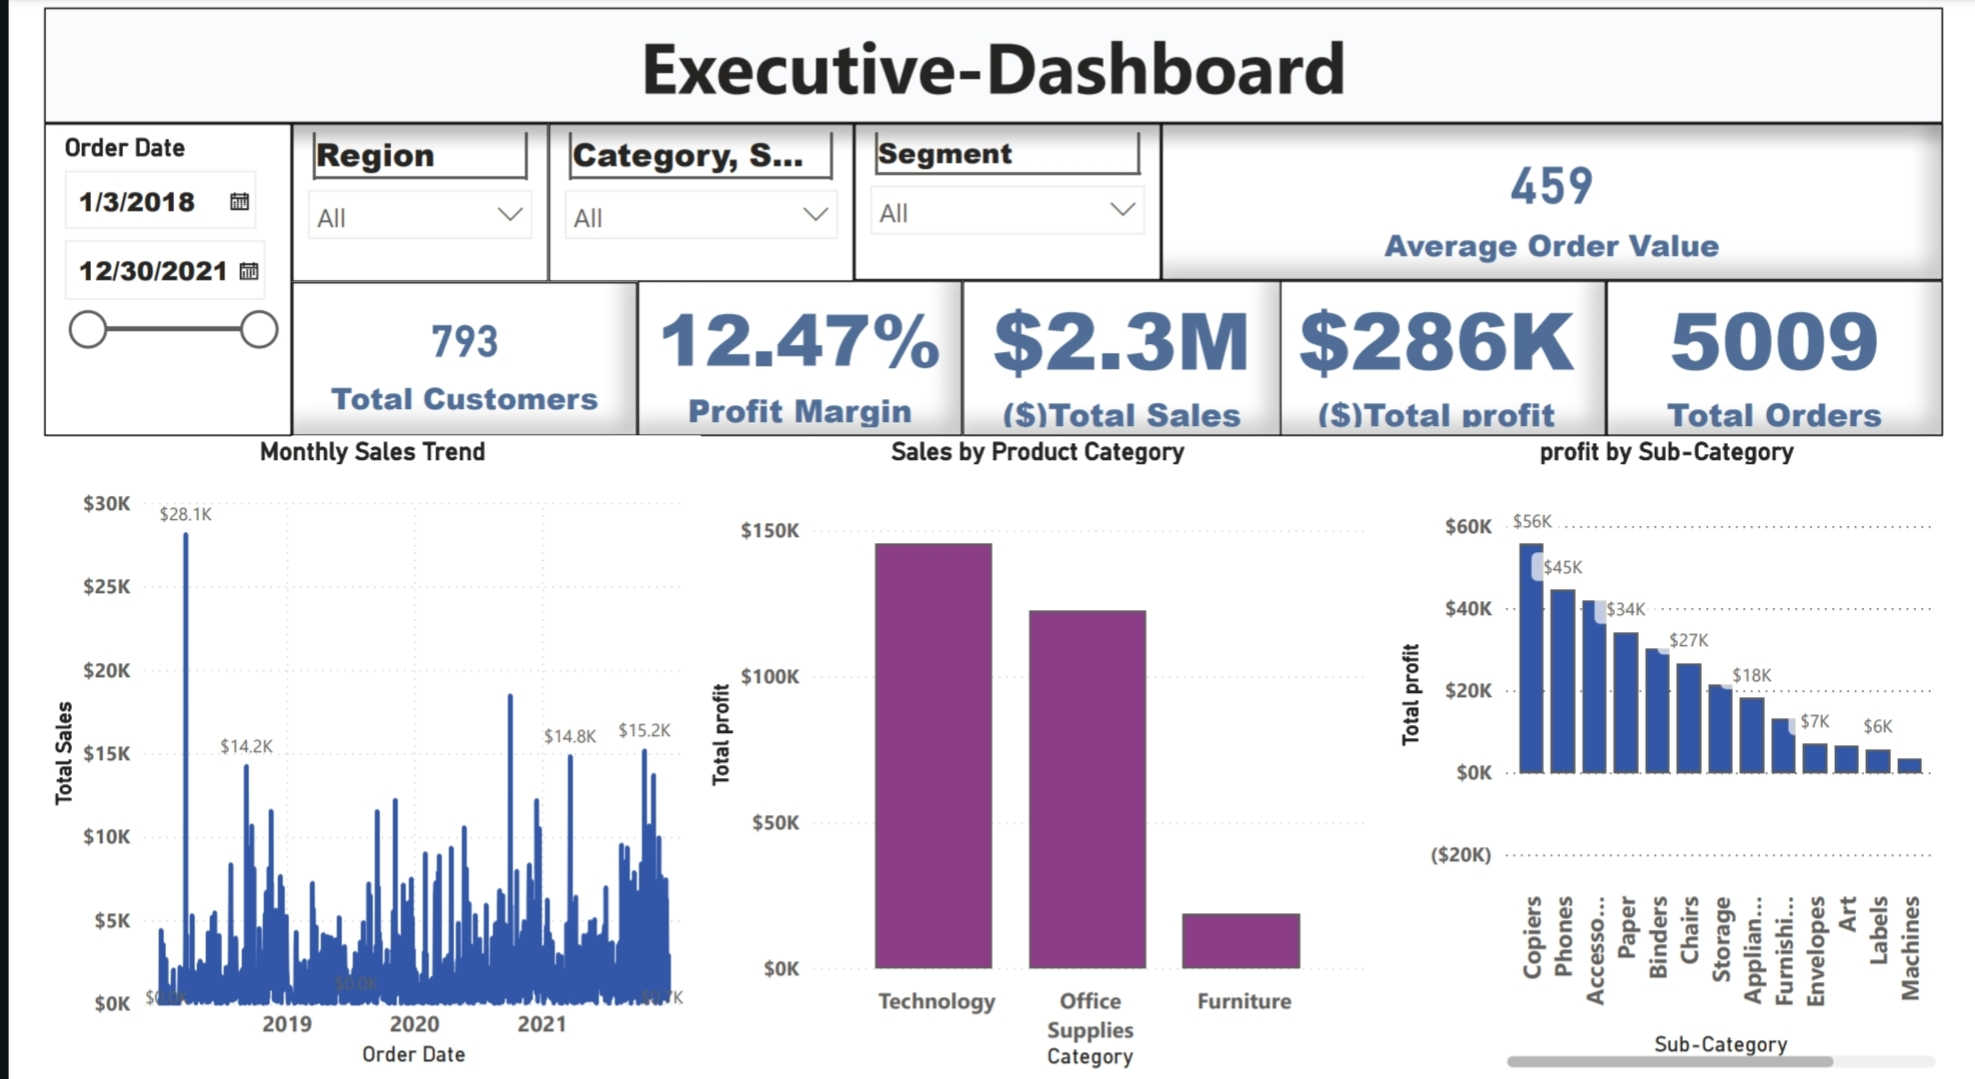

Layout of this report page (visuals, bound fields, positions):
{"tool":"powerbi","page":{"name":"Executive Dashboard","canvas":[1280,720],"ordinal":1},"visuals":[{"type":"slicer","fields":{"Values":["Orders.Region"]},"box":[166.8,78.2,172.7,106.3],"z":0},{"type":"slicer","fields":{"Values":["Orders.Segment"]},"box":[545.8,77.8,207.4,106.6],"z":1000},{"type":"slicer","fields":{"Values":["Orders.Category","Orders.Sub-Category"]},"box":[339.6,78.2,206.7,106.3],"z":3000},{"type":"card","fields":{"Values":["Calendar.Average Order Value"]},"box":[753.1,77.8,527.1,106.3],"z":4000},{"type":"card","fields":{"Values":["Calendar.Total Orders"]},"box":[1052.6,184.3,227.5,105.1],"z":5000},{"type":"card","fields":{"Values":["Calendar.Total profit"]},"box":[823.7,184.3,229,105.1],"z":6000},{"type":"card","fields":{"Values":["Calendar.Total Sales"]},"box":[619.2,184.3,214.6,105.1],"z":7000},{"type":"clusteredColumnChart","title":"Sales by Product Category","fields":{"Category":["Orders.Category"],"Y":["Calendar.Total profit"]},"box":[443.1,289.3,454.1,430.3],"z":8000},{"type":"lineStackedColumnComboChart","title":" profit by Sub-Category","fields":{"Category":["Orders.Sub-Category"],"Y":["Calendar.Total profit"]},"box":[908.3,289.3,371.7,430.3],"z":9000},{"type":"card","fields":{"Values":["Calendar.Profit Margin"]},"box":[400.3,184.3,218.9,105.1],"z":10000},{"type":"card","fields":{"Values":["Calendar.Total Customers"]},"box":[166.8,184.5,233.3,104.8],"z":11000},{"type":"textbox","box":[0,0,1280,78.2],"z":12000},{"type":"lineChart","title":"Monthly Sales Trend","fields":{"Category":["Orders.Order Date.Variation.Date Hierarchy.Year"],"Y":["Calendar.Total Sales"]},"box":[0,289.4,442.9,429.6],"z":13000},{"type":"slicer","fields":{"Values":["Orders.Order Date"]},"box":[0,77.8,167,211.7],"z":13001}]}

Visuals, with their boxes in screenshot pixels (x1, y1, x2, y2), scaled from the page's 1280x720 canvas onto the 1975x1079 screenshot:
slicer - Orders.Region: detection(257, 117, 524, 276)
slicer - Orders.Segment: detection(842, 117, 1162, 276)
slicer - Orders.Category x Orders.Sub-Category: detection(524, 117, 843, 276)
card - Calendar.Average Order Value: detection(1162, 117, 1974, 276)
card - Calendar.Total Orders: detection(1624, 276, 1974, 434)
card - Calendar.Total profit: detection(1271, 276, 1624, 434)
card - Calendar.Total Sales: detection(955, 276, 1287, 434)
"Sales by Product Category" clusteredColumnChart: detection(684, 434, 1384, 1078)
" profit by Sub-Category" lineStackedColumnComboChart: detection(1401, 434, 1974, 1078)
card - Calendar.Profit Margin: detection(618, 276, 955, 434)
card - Calendar.Total Customers: detection(257, 276, 617, 434)
textbox: detection(0, 0, 1974, 117)
"Monthly Sales Trend" lineChart: detection(0, 434, 683, 1078)
slicer - Orders.Order Date: detection(0, 117, 258, 434)
